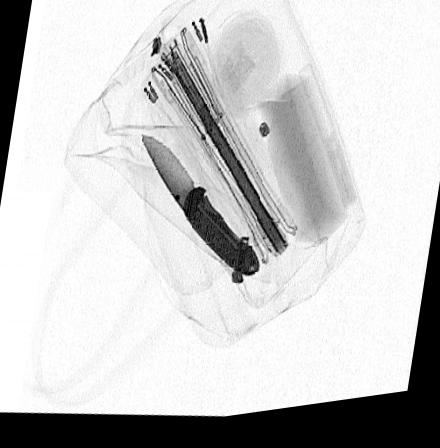Knife: (140, 135, 262, 285)
